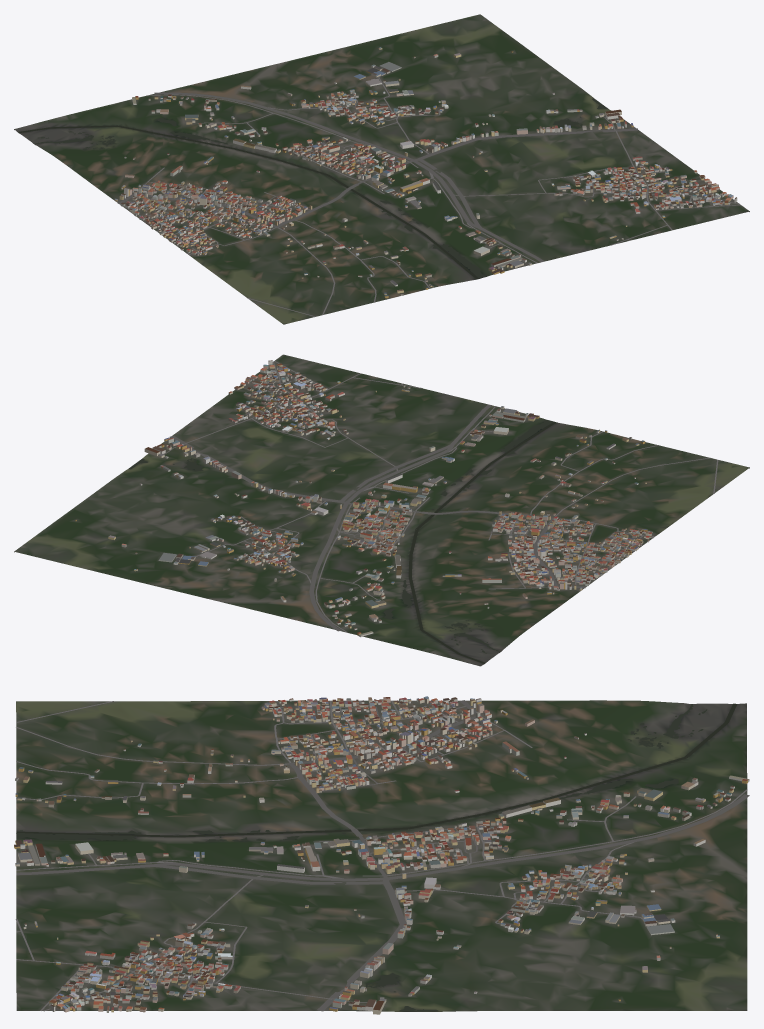
3 renders of one model, top to bottom at view 1: azimuth 30°, elevation 25°; view 2: azimuth 150°, elevation 25°; view 3: azimuth 270°, elevation 25°, orthographic. The views are drawn at different scales.
Parts seen in each view (by area): view 1: ground, buildings, roads, water; view 2: ground, buildings, roads, water; view 3: ground, buildings, roads, water.
Boxes of the visible parts, x1,y1,x2,y2 form: ground: [14, 14, 749, 324]; buildings: [114, 47, 737, 298]; roads: [117, 76, 740, 316]; water: [18, 98, 607, 279]; ground: [14, 354, 749, 666]; buildings: [75, 360, 652, 637]; roads: [163, 361, 718, 632]; water: [128, 419, 557, 663]; ground: [16, 700, 747, 1011]; buildings: [14, 696, 749, 1014]; roads: [15, 700, 749, 1011]; water: [16, 703, 737, 1011].
Bounding box in the file's own units: 1418 × 32.24 × 1412.
